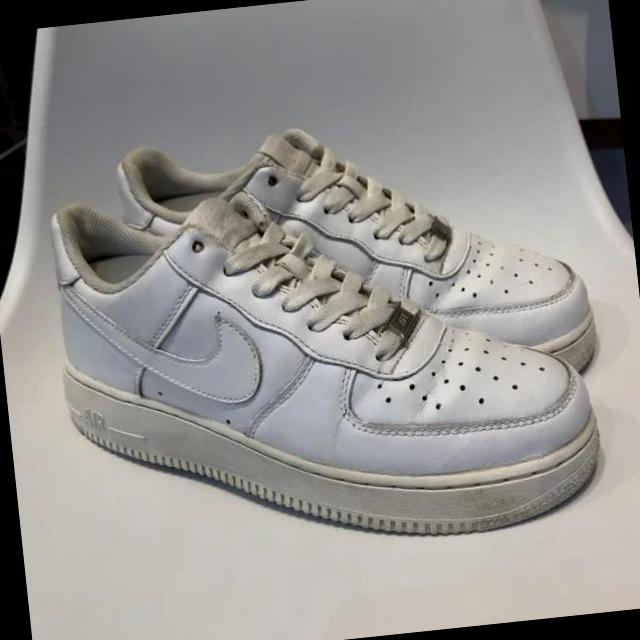nike_original_airforce: (47, 149, 606, 572), (106, 99, 616, 408)
